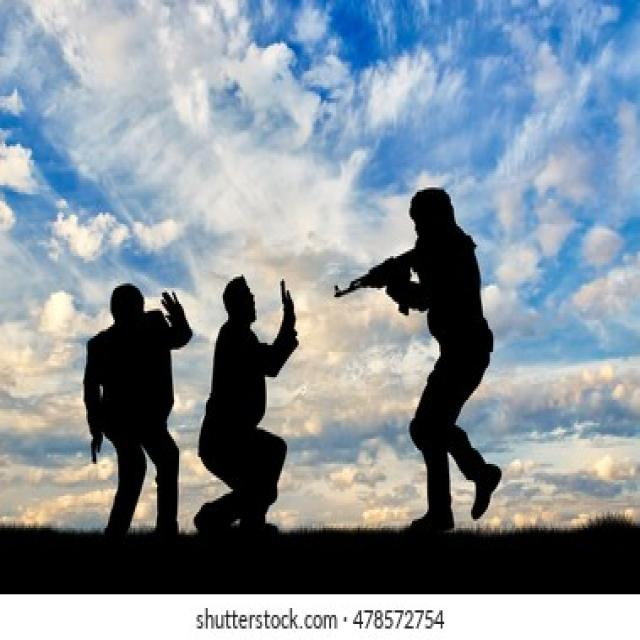Militant: (353, 149, 525, 552), (71, 260, 193, 547), (201, 249, 303, 548)
